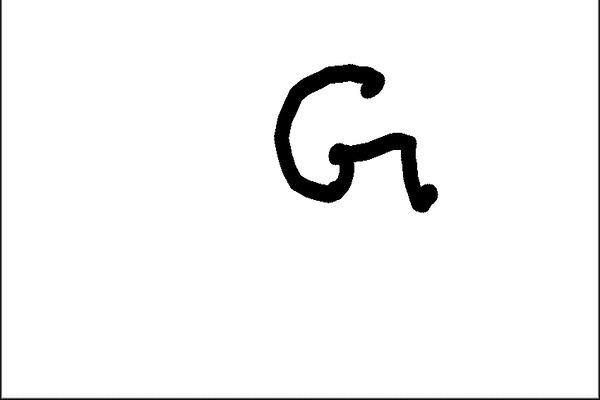G: (267, 61, 442, 217)
